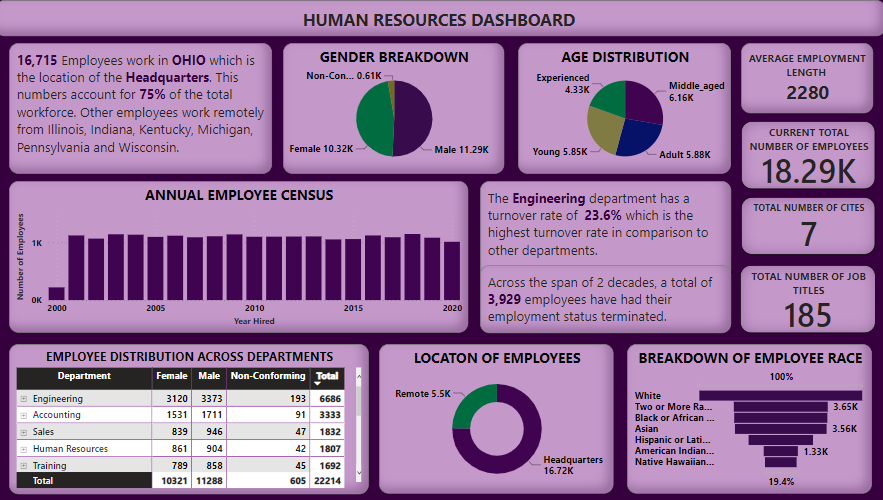

The page's visual inventory and layout, read from the dashboard file:
{"tool":"powerbi","page":{"name":"Human Resources Remake ","canvas":[1280,720],"ordinal":0},"visuals":[{"type":"textbox","box":[0,0,1280.5,51.7],"z":0},{"type":"pieChart","title":"AGE DISTRIBUTION","fields":{"Category":["Human Resources.AGE DISTRIBUTION"],"Y":["CountNonNull(Human Resources.AGE DISTRIBUTION)"]},"box":[751.6,61.8,306.1,188.3],"z":1000},{"type":"pieChart","title":"GENDER BREAKDOWN","fields":{"Category":["Human Resources.gender"],"Y":["CountNonNull(Human Resources.gender)"]},"box":[413.9,61.8,317.6,188.3],"z":2000},{"type":"funnel","title":"BREAKDOWN OF EMPLOYEE RACE","fields":{"Category":["Human Resources.race"],"Y":["CountNonNull(Human Resources.race)"]},"box":[907.9,494.5,352.2,215],"z":3000},{"type":"pivotTable","title":"EMPLOYEE DISTRIBUTION ACROSS DEPARTMENTS ","fields":{"Columns":["Human Resources.gender"],"Values":["CountNonNull(Human Resources.gender)"],"Rows":["Human Resources.department","Human Resources.jobtitle"]},"box":[20.1,494.4,517.4,215.6],"z":4000},{"type":"card","title":"CURRENT TOTAL NUMBER OF EMPLOYEES","fields":{"Values":["Avg(Human Resources.Total Employees)"]},"box":[1071.6,173.6,193.5,97.6],"z":5000},{"type":"donutChart","title":"LOCATON OF EMPLOYEES","fields":{"Category":["Human Resources.location"],"Y":["CountNonNull(Human Resources.location)"]},"box":[552.4,494.5,337.4,215],"z":6000},{"type":"textbox","box":[1072.1,61.8,189.7,100.6],"z":7000},{"type":"textbox","box":[20.1,61.8,378,188.3],"z":8000},{"type":"card","title":"TOTAL NUMBER OF CITES","fields":{"Values":["Count(Human Resources.location_state)"]},"box":[1071.6,282.8,193.5,82.7],"z":9000},{"type":"card","title":"TOTAL NUMBER OF JOB TITLES","fields":{"Values":["Count(Human Resources.jobtitle)"]},"box":[1070,380.4,195.1,97.6],"z":10000},{"type":"clusteredColumnChart","title":"ANNUAL EMPLOYEE CENSUS","fields":{"Y":["CountNonNull(Human Resources.Hire Date Year)"],"Category":["Human Resources.Hire Date Year"]},"box":[20.1,260.1,659.6,218.4],"z":11000},{"type":"textbox","box":[697,260.1,360.7,142.3],"z":12000},{"type":"textbox","box":[697,380.8,360.7,97.7],"z":13000}]}

Visuals, with their boxes in screenshot pixels (x1, y1, x2, y2), scaled from the page's 1280x720 canvas onto the 883x500 screenshot:
textbox: 0 0 882 36
"AGE DISTRIBUTION" pieChart: 518 43 730 174
"GENDER BREAKDOWN" pieChart: 286 43 505 174
"BREAKDOWN OF EMPLOYEE RACE" funnel: 626 343 869 493
"EMPLOYEE DISTRIBUTION ACROSS DEPARTMENTS " pivotTable: 14 343 371 493
"CURRENT TOTAL NUMBER OF EMPLOYEES" card: 739 121 873 188
"LOCATON OF EMPLOYEES" donutChart: 381 343 614 493
textbox: 740 43 870 113
textbox: 14 43 275 174
"TOTAL NUMBER OF CITES" card: 739 196 873 254
"TOTAL NUMBER OF JOB TITLES" card: 738 264 873 332
"ANNUAL EMPLOYEE CENSUS" clusteredColumnChart: 14 181 469 332
textbox: 481 181 730 279
textbox: 481 264 730 332
